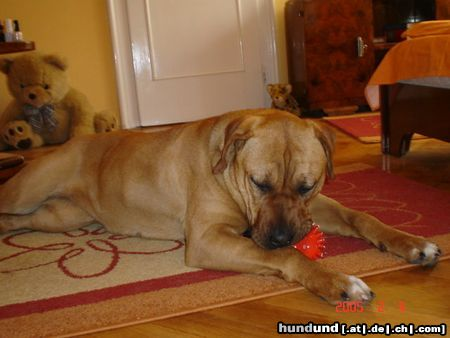tosa_inu: (0, 106, 442, 306)
